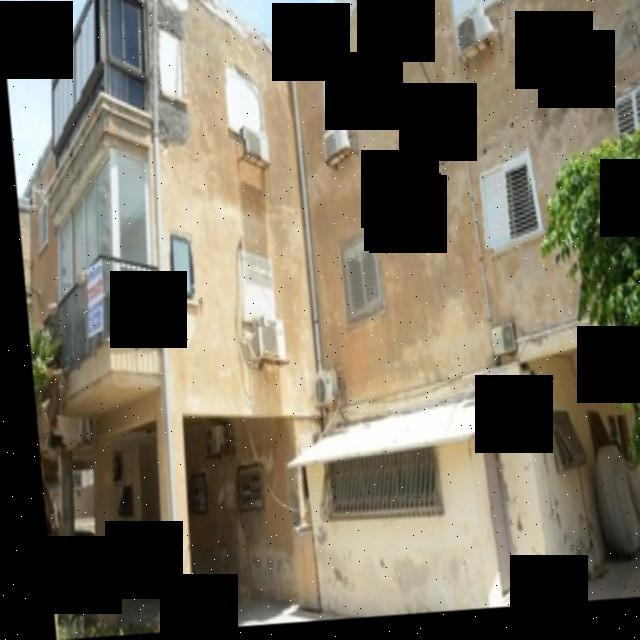Window: (473, 158, 533, 256), (220, 64, 262, 144), (337, 244, 378, 316), (319, 65, 357, 134), (155, 21, 184, 106), (238, 254, 270, 331), (612, 89, 640, 164), (165, 236, 193, 305), (226, 468, 256, 522), (540, 420, 564, 480), (450, 0, 502, 27)
